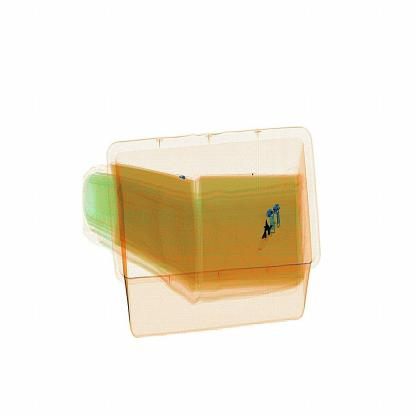gun: (256, 208, 286, 258)
